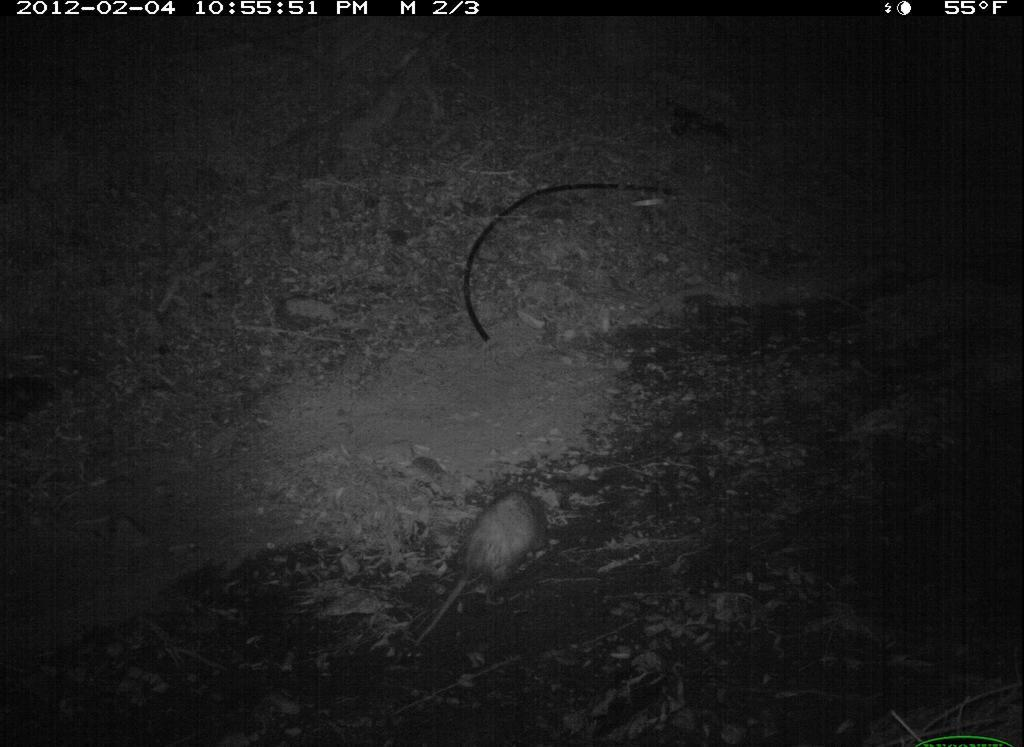opossum: (400, 447, 619, 660)
